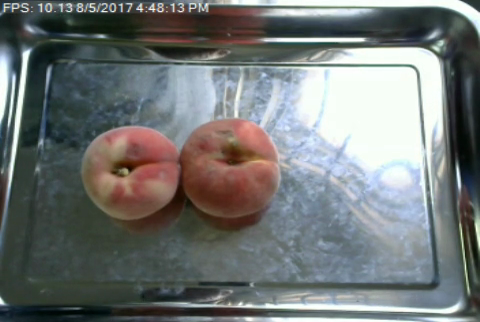Peach: (179, 117, 279, 217), (81, 126, 183, 221)
